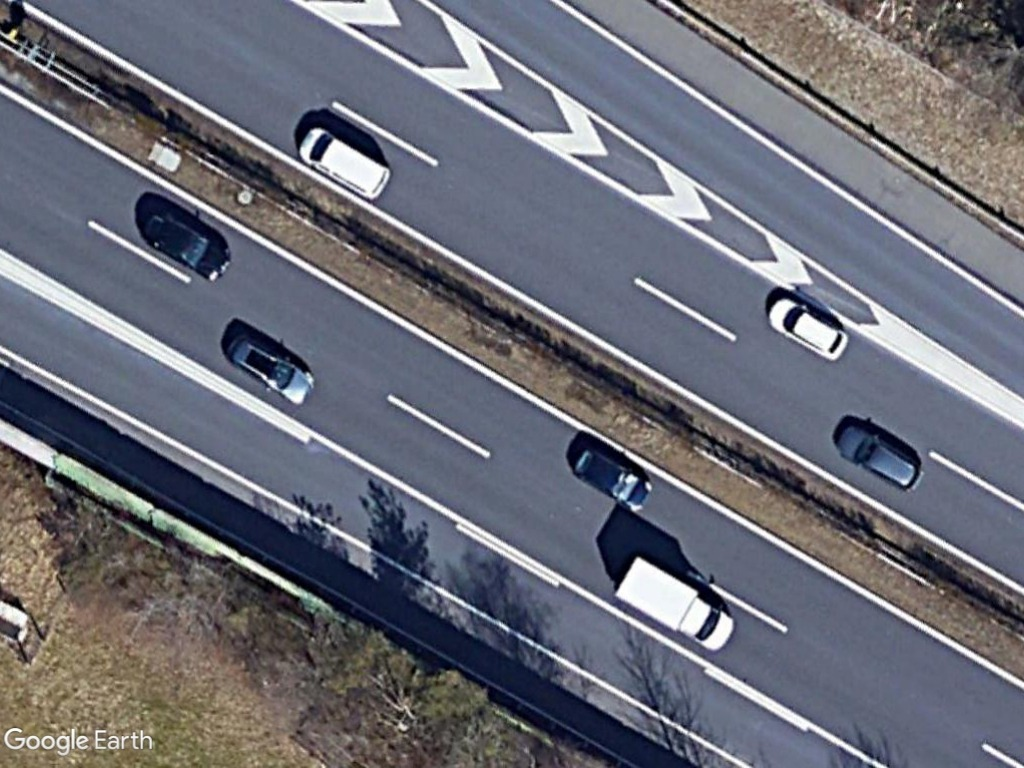car: (222, 332, 319, 407), (144, 205, 234, 283), (833, 426, 924, 491), (766, 294, 851, 363), (571, 445, 653, 513)
truck: (612, 552, 737, 654)
van: (298, 125, 394, 202)
